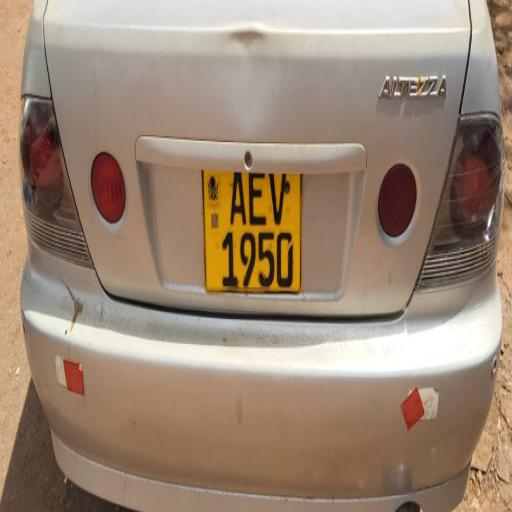number-plates: (200, 160, 302, 296)
